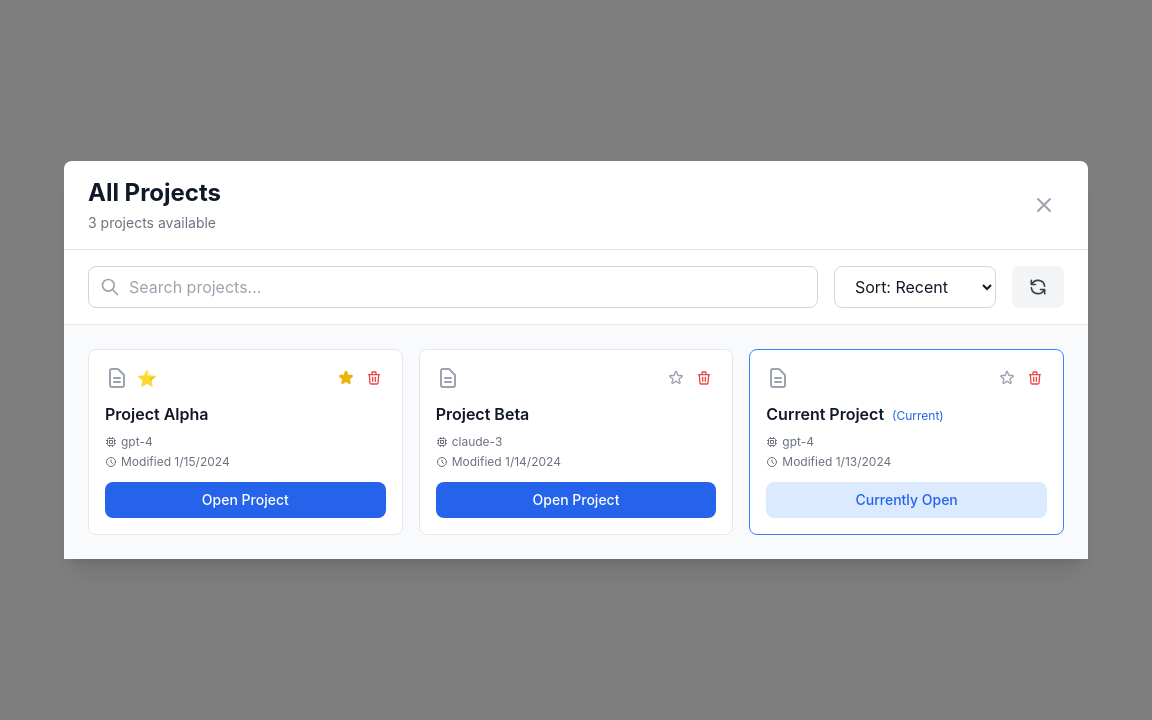
Test: ProjectSwitcher › Search Functionality › should show empty state when no matches found
Expected: the heading "Project Alpha" is shown, x1=105 y1=404 x2=208 y2=424
Type "NonExistent" into the field with placeholder "Search projects..." at (453, 287), box x1=88 y1=266 x2=818 y2=308
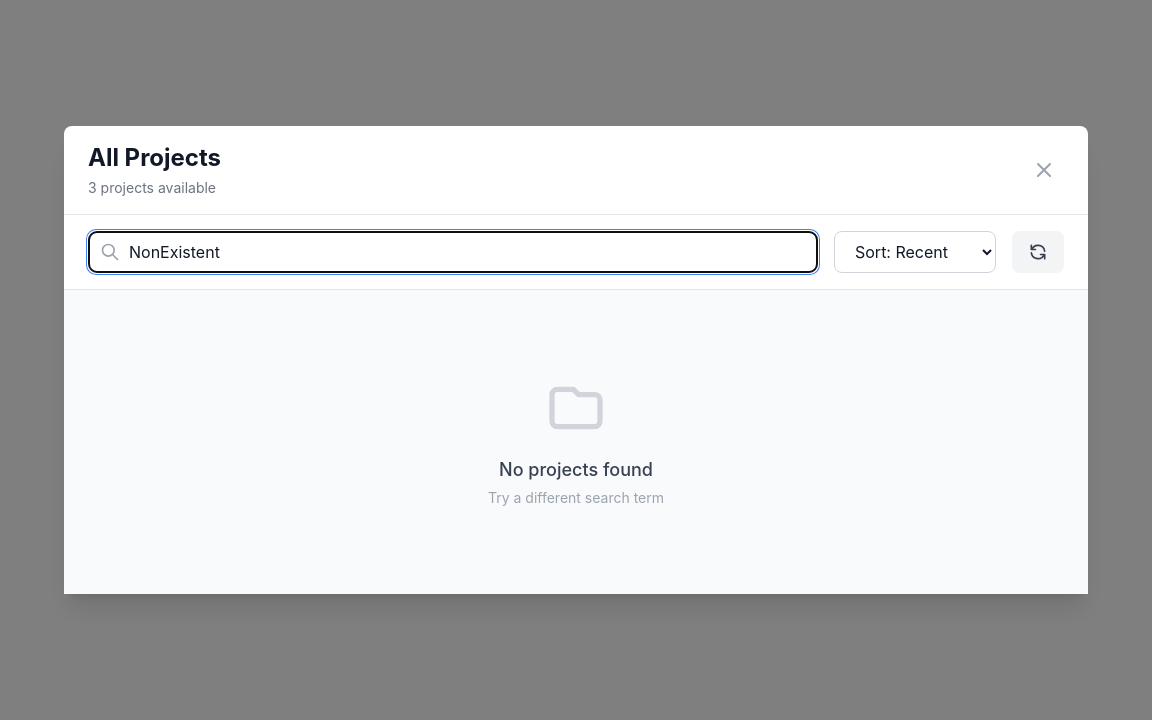
Expected: the text "No projects found" is shown, x1=499 y1=456 x2=653 y2=484
Expected: the text "Try a different search term" is shown, x1=488 y1=488 x2=664 y2=508
